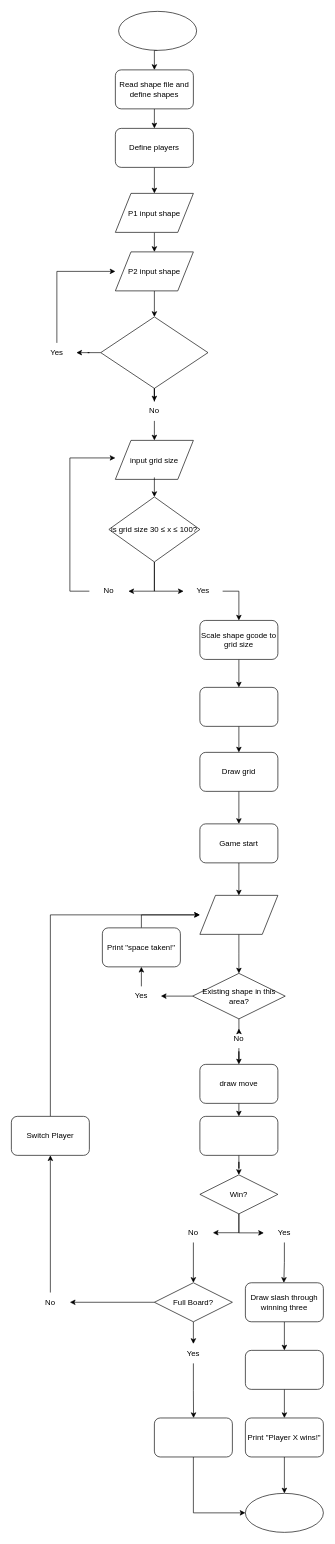
This 335x1544 diagram has some shape labels left out. The shapes that lost their labels are listed below. From the top down, each one's centre as x and y in pixels, then its label:
At point 157,30: "Start".
At point 154,352: "Does P2 use the same shape as P1?".
At point 238,706: "initialise serial link F1000, M3, S0".
At point 238,914: "Enter move".
At point 238,1135: "Lift pen return to 0,0".
At point 284,1369: "Lift Pen, return to 0,0".
At point 193,1437: "Print Draw".
At point 284,1512: "End".
